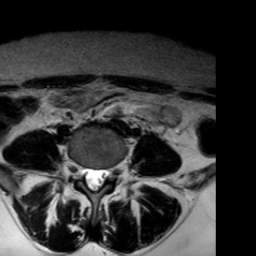CCS_normal: (90, 159, 97, 200)
LFS_normal: (106, 156, 114, 188)
LLS_normal: (97, 158, 106, 193)
RFS_normal: (73, 151, 82, 190)
RLS_normal: (82, 158, 90, 193)
